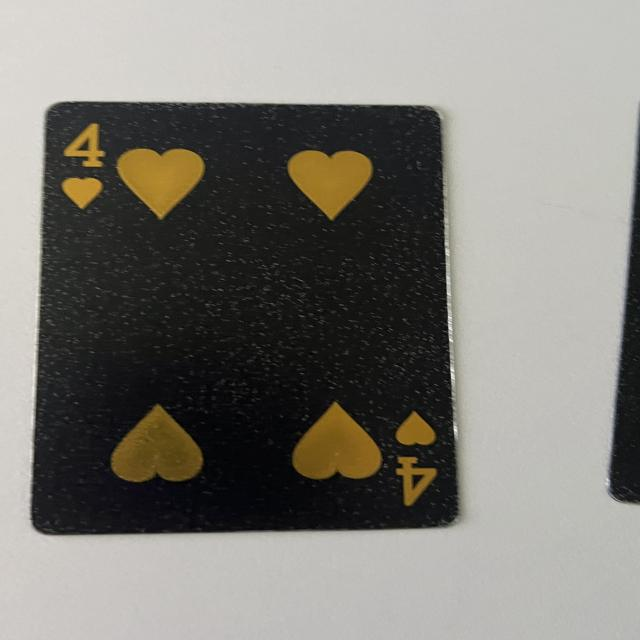4H: (382, 406, 444, 518), (53, 119, 115, 210)
